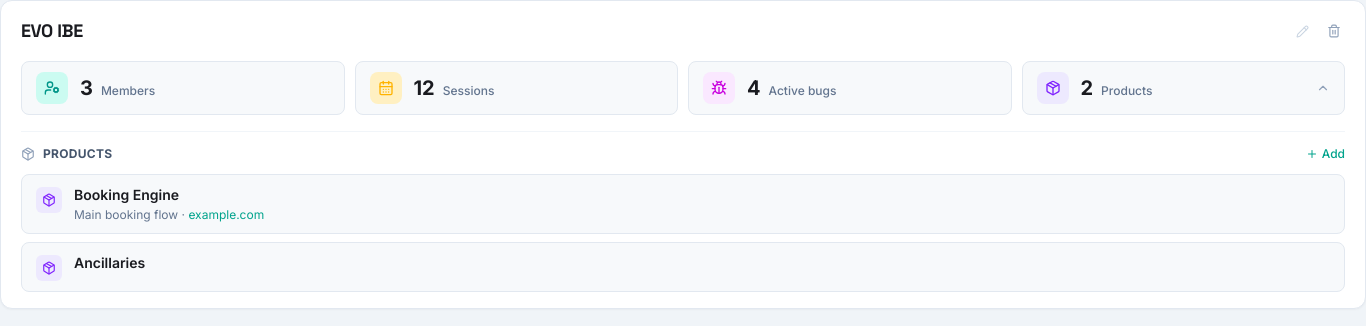
it: TeamCard › products section re-expands when clicked again
Step 1. Click the button "2 Products" → (1052, 88), box [1022, 61, 1345, 115]
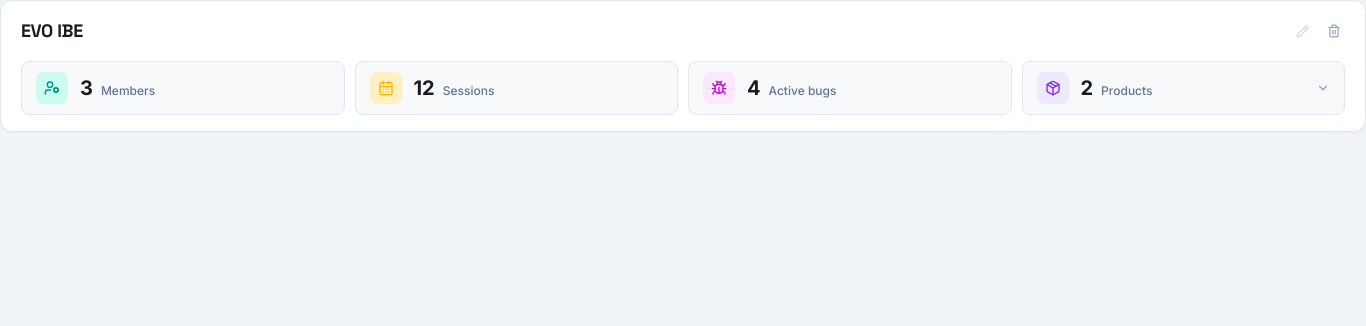
Step 2. Click the button "2 Products" → (1052, 88), box [1022, 61, 1345, 115]
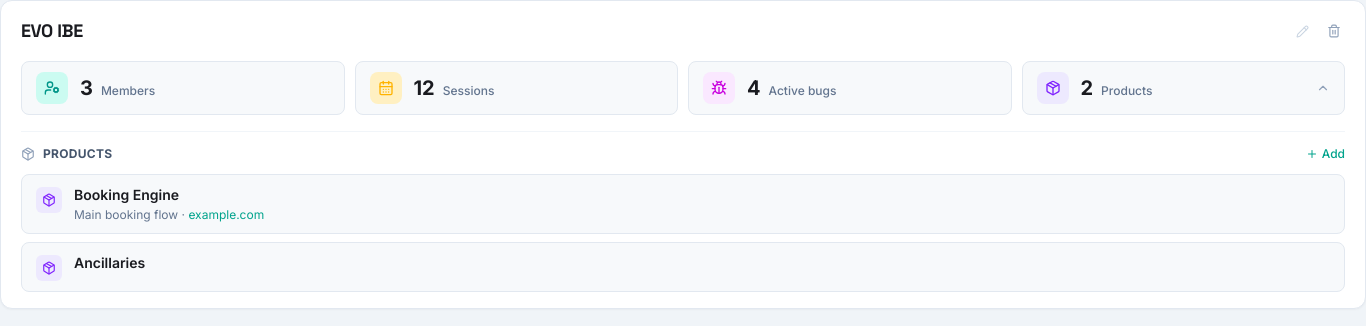
Now the text "Booking Engine" is shown, box [74, 186, 179, 203]
